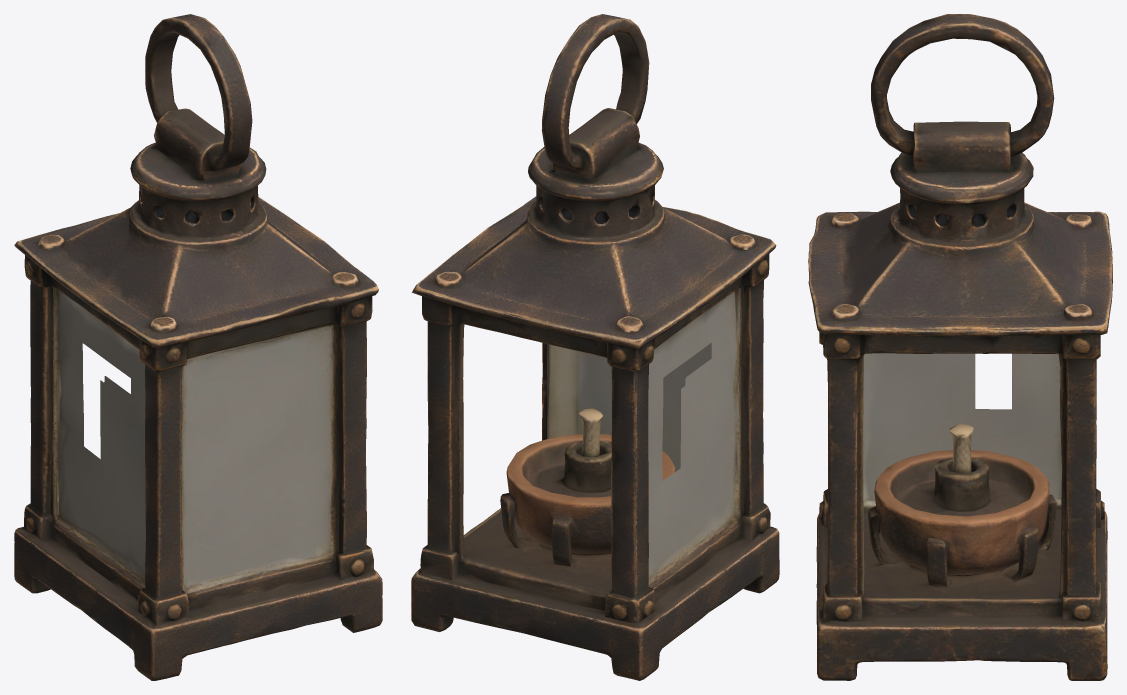
The picture shows the model from 3 angles, left to right: view 1: azimuth 30°, elevation 25°; view 2: azimuth 150°, elevation 25°; view 3: azimuth 270°, elevation 25°; orthographic projection. The views are drawn at different scales.
Visible parts, largest first — view 1: tripo_node_225bfd29-e9c1-4f77-a13e-59856e809066; view 2: tripo_node_225bfd29-e9c1-4f77-a13e-59856e809066; view 3: tripo_node_225bfd29-e9c1-4f77-a13e-59856e809066.
Part boxes in pixels (x1=…): tripo_node_225bfd29-e9c1-4f77-a13e-59856e809066: x1=14, y1=14, x2=382, y2=680; tripo_node_225bfd29-e9c1-4f77-a13e-59856e809066: x1=411, y1=14, x2=779, y2=680; tripo_node_225bfd29-e9c1-4f77-a13e-59856e809066: x1=808, y1=14, x2=1112, y2=680.
Bounding box in the file's own units: 0.424 × 1 × 0.4554.
1 material, 1 textured.
